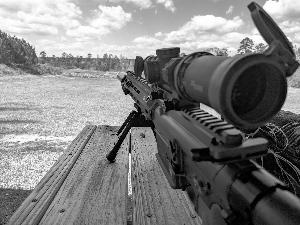sniper: (104, 1, 299, 222)
